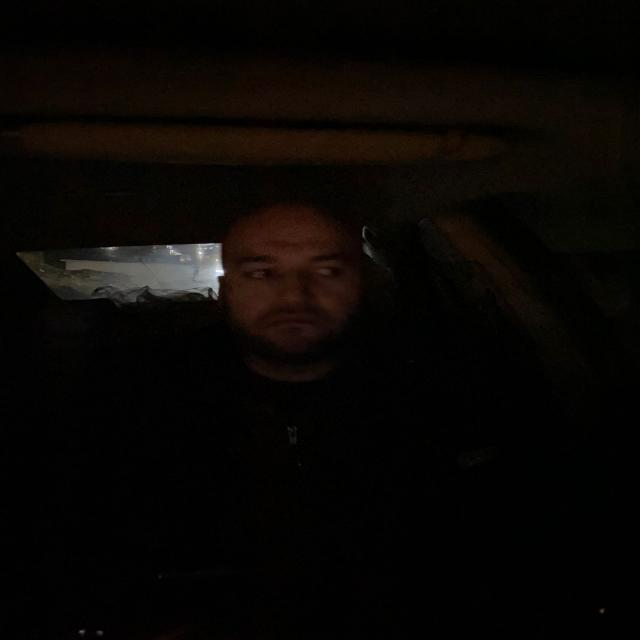person: (203, 191, 385, 363)
